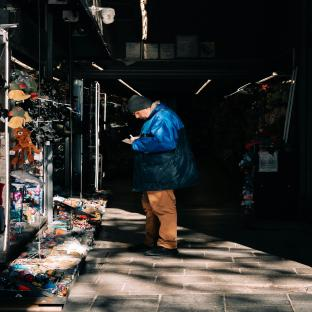Human: (128, 95, 199, 255)
